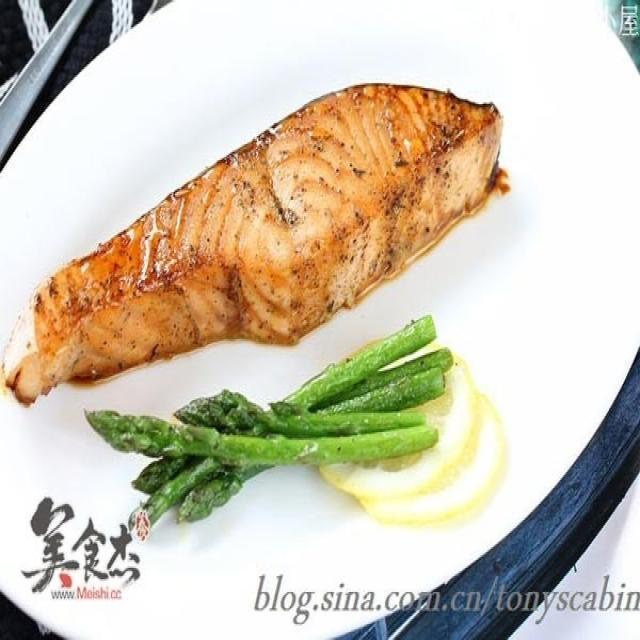熟制海鲜: (6, 16, 612, 600)
